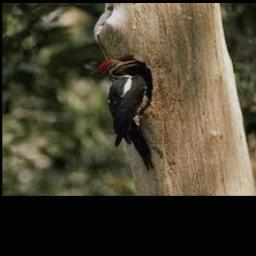Woodpecker: (98, 59, 155, 170)
